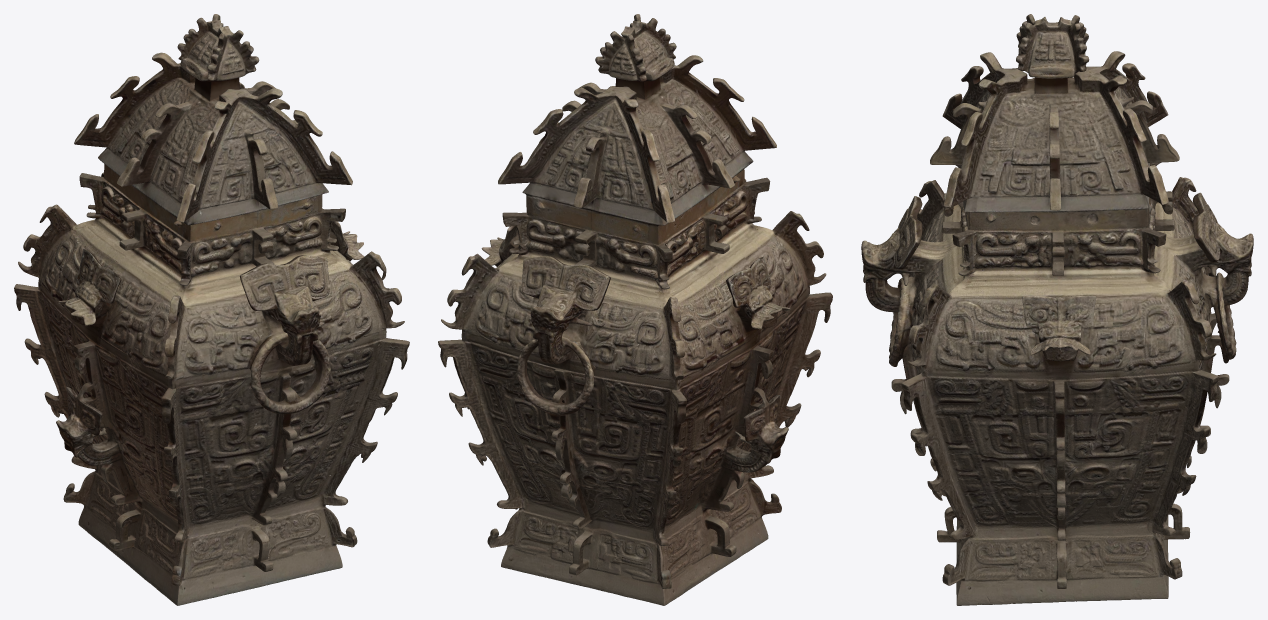
3 views of the same model, side by side, from view 1: azimuth 30°, elevation 25°; view 2: azimuth 150°, elevation 25°; view 3: azimuth 270°, elevation 25° (orthographic). The views are drawn at different scales.
Parts seen in each view (by area): view 1: tripo_node_085357c1-2d63-4af7-be9d-3f4af4b73b3a; view 2: tripo_node_085357c1-2d63-4af7-be9d-3f4af4b73b3a; view 3: tripo_node_085357c1-2d63-4af7-be9d-3f4af4b73b3a.
Boxes of the visible parts, x1,y1,x2,y2 form: tripo_node_085357c1-2d63-4af7-be9d-3f4af4b73b3a: [14, 14, 409, 605]; tripo_node_085357c1-2d63-4af7-be9d-3f4af4b73b3a: [438, 14, 832, 605]; tripo_node_085357c1-2d63-4af7-be9d-3f4af4b73b3a: [861, 14, 1253, 605].
Bounding box in the file's own units: 0.5858 × 0.9998 × 0.6474.
1 material, 1 textured.
